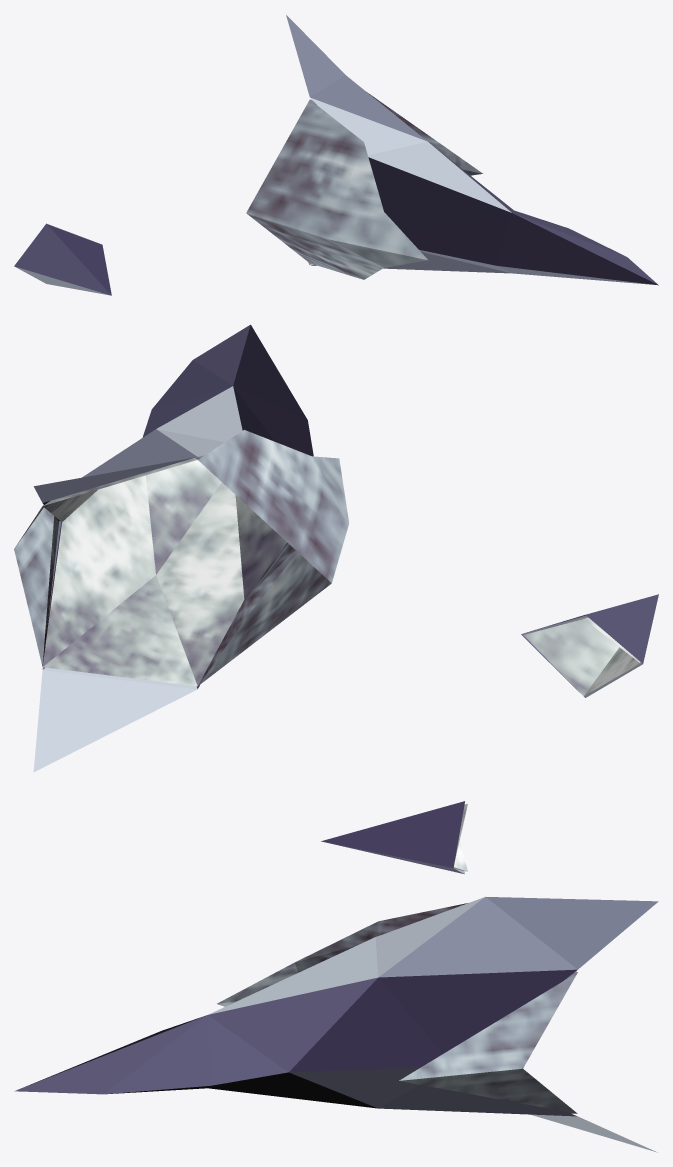
3 renders of one model, top to bottom at view 1: azimuth 30°, elevation 25°; view 2: azimuth 150°, elevation 25°; view 3: azimuth 270°, elevation 25°, orthographic. The views are drawn at different scales.
Visible parts, largest first — view 1: B_0080_2a_0, B_0080_2a_1; view 2: B_0080_2a_1, B_0080_2a_0; view 3: B_0080_2a_0, B_0080_2a_1.
Part boxes in pixels (x1,y1,x2,y2): B_0080_2a_0: (14, 15, 658, 295); B_0080_2a_1: (44, 92, 482, 279); B_0080_2a_1: (14, 430, 640, 696); B_0080_2a_0: (33, 324, 658, 771); B_0080_2a_0: (14, 801, 658, 1152); B_0080_2a_1: (217, 803, 577, 1113).
Size of the model in its own units: 4.1 by 1.73 by 4.01.
2 materials, 2 textured.
